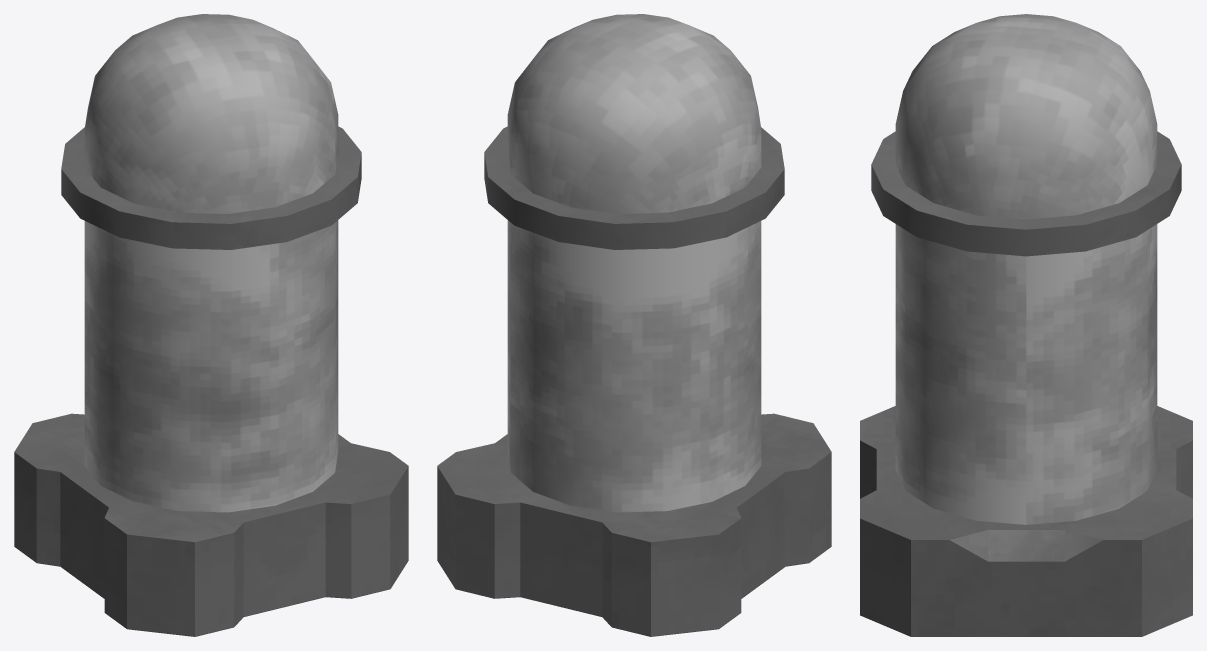
File: bio_chamber.fbx
3 renders of one model, left to right at view 1: azimuth 30°, elevation 25°; view 2: azimuth 150°, elevation 25°; view 3: azimuth 270°, elevation 25°, orthographic. The views are drawn at different scales.
Parts seen in each view (by area): view 1: Cube.003; view 2: Cube.003; view 3: Cube.003.
Boxes of the visible parts, x1,y1,x2,y2 form: Cube.003: (14,14,408,636); Cube.003: (437,14,831,636); Cube.003: (860,14,1192,636).
Size of the model in its own units: 400 by 702 by 400.
1 material, 1 textured.
